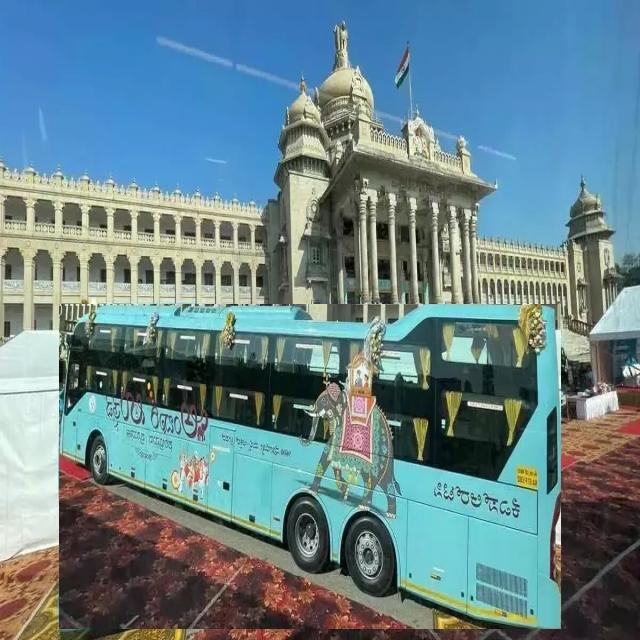bus: (59, 304, 561, 629)
